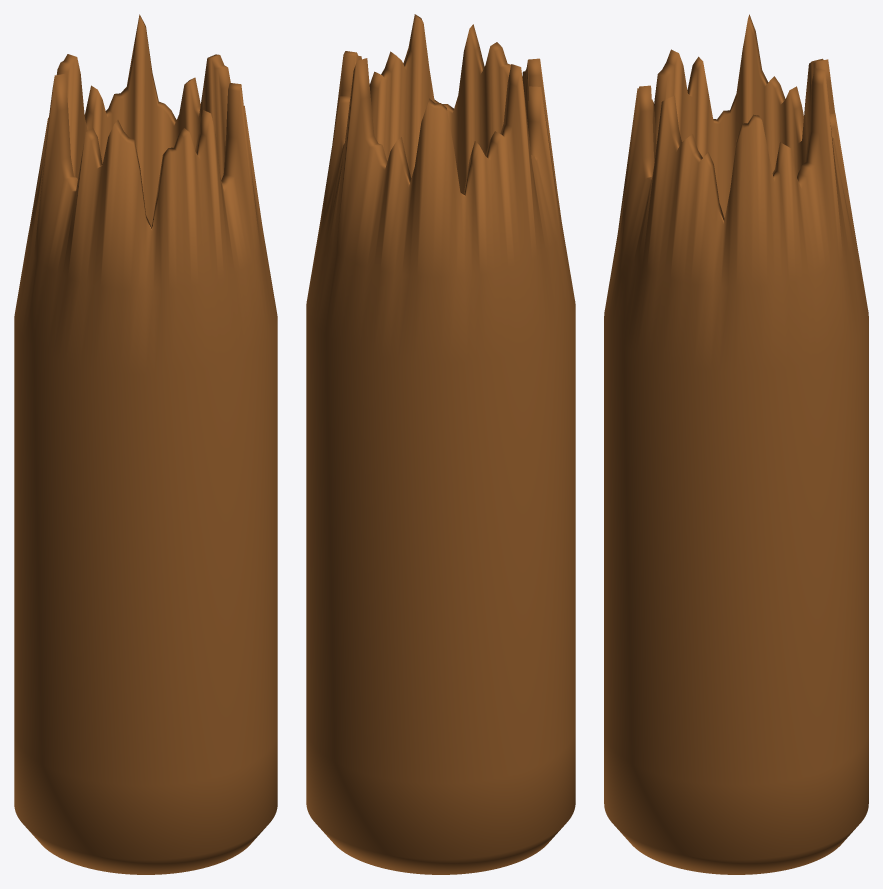
3 views of the same model, side by side, from view 1: azimuth 30°, elevation 25°; view 2: azimuth 150°, elevation 25°; view 3: azimuth 270°, elevation 25° (orthographic). The views are drawn at different scales.
Visible parts, largest first — view 1: R04_broken_glass; view 2: R04_broken_glass; view 3: R04_broken_glass.
Boxes of the visible parts, left/top/right/bottom form: R04_broken_glass: left=14, top=14, right=277, bottom=874; R04_broken_glass: left=306, top=14, right=575, bottom=874; R04_broken_glass: left=604, top=14, right=868, bottom=874.
Bounding box in the file's own units: 6.1 × 19.73 × 6.1.
